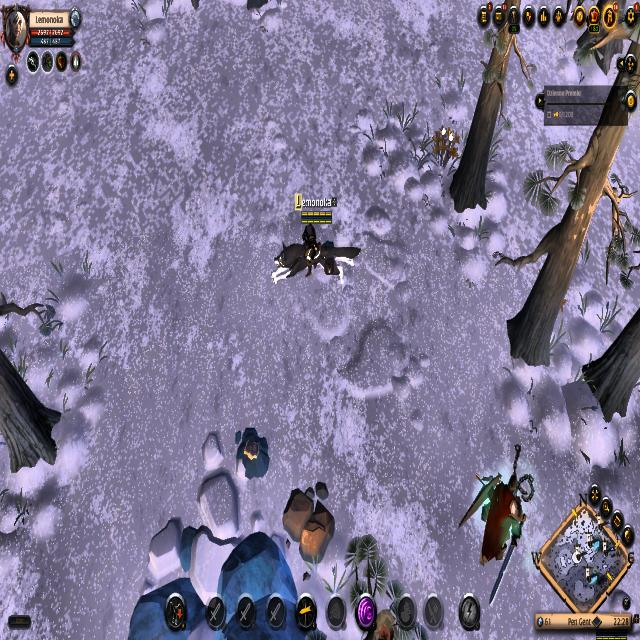fiber tier 2: (432, 121, 460, 172)
ore tier 2: (234, 422, 271, 483)
rock tier 2: (283, 478, 336, 567)
